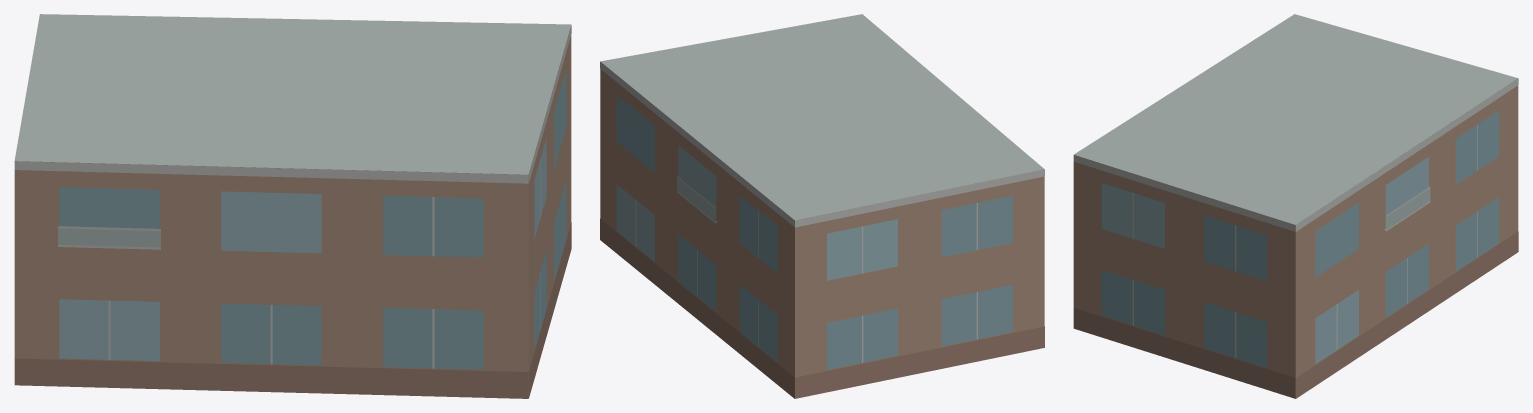
Rendered from survey-upis-33016931.glb.
The picture shows the model from 3 angles, left to right: view 1: azimuth 30°, elevation 25°; view 2: azimuth 150°, elevation 25°; view 3: azimuth 270°, elevation 25°; orthographic projection. The views are drawn at different scales.
Visible parts, largest first — view 1: survey-upis-33016931.tmp; view 2: survey-upis-33016931.tmp; view 3: survey-upis-33016931.tmp.
Part boxes in pixels (x1,y1,x2,y2): survey-upis-33016931.tmp: [14, 14, 571, 398]; survey-upis-33016931.tmp: [600, 14, 1044, 398]; survey-upis-33016931.tmp: [1073, 14, 1518, 398].
Bounding box in the file's own units: 15.89 × 6.1 × 14.16.
